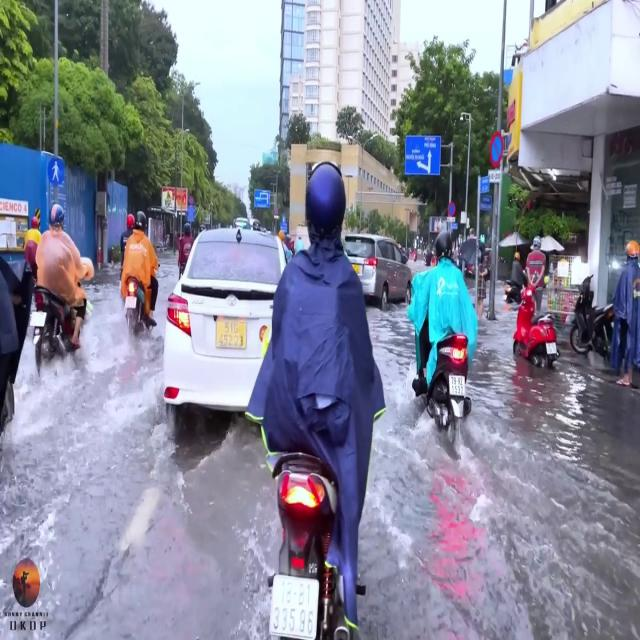bien_trang: (268, 573, 321, 640), (449, 374, 463, 397)
bien_vang: (219, 318, 244, 346)
